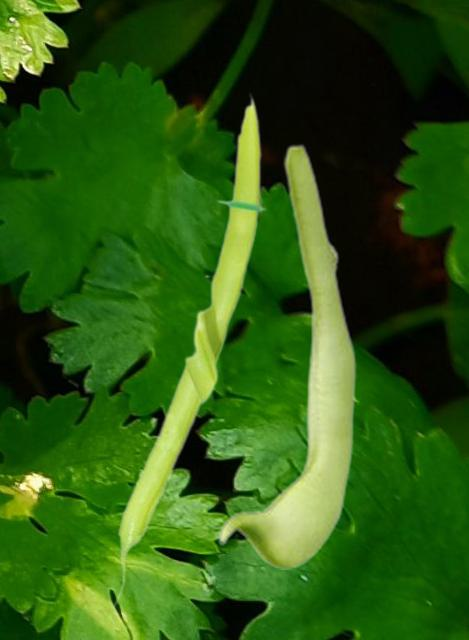french_bean: (112, 92, 266, 608), (217, 142, 355, 568)
